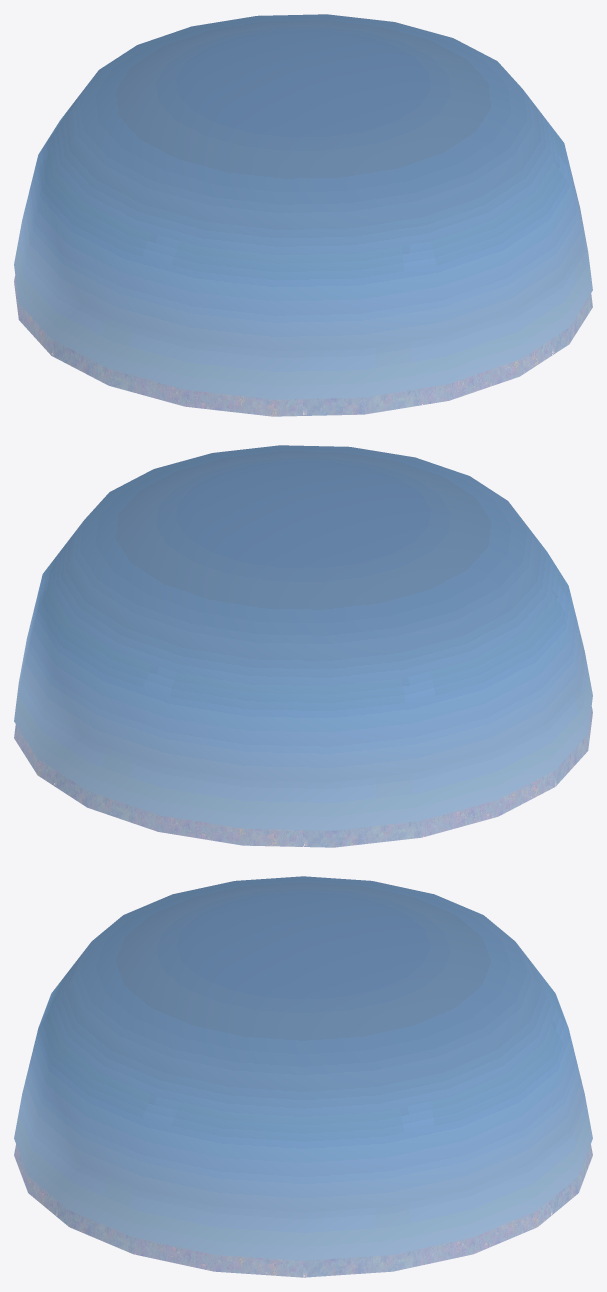
File: stage-fore-sky.glb
3 renders of one model, top to bottom at view 1: azimuth 30°, elevation 25°; view 2: azimuth 150°, elevation 25°; view 3: azimuth 270°, elevation 25°, orthographic.
Parts seen in each view (by area): view 1: sky; view 2: sky; view 3: sky.
Part boxes in pixels (left/top/right/bottom): sky: left=14, top=14, right=592, bottom=416; sky: left=14, top=445, right=592, bottom=847; sky: left=14, top=876, right=592, bottom=1277.
Bounding box in the file's own units: 3660 × 1545 × 3660.
3 materials, 3 textured.
